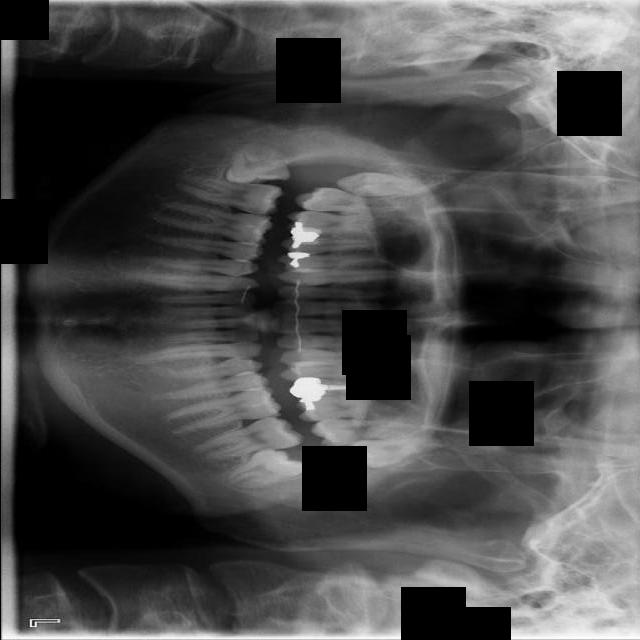3M ESPE Implant: (336, 171, 457, 198)
52: (238, 379, 285, 429), (284, 206, 331, 241), (293, 390, 337, 423), (236, 211, 272, 249), (273, 250, 318, 274), (279, 234, 323, 258), (288, 375, 325, 399)
73: (12, 629, 18, 632)
BioHorizons Implant: (310, 417, 435, 448)
BioLife Implant: (339, 433, 456, 471)
Biomet 3i Implant: (218, 437, 309, 498)
Blue Sky Bio Implant: (190, 411, 305, 464)
Caries: (292, 185, 407, 217)
Implant: (173, 168, 286, 219)
Keystone Dental Implant: (222, 138, 290, 188)
